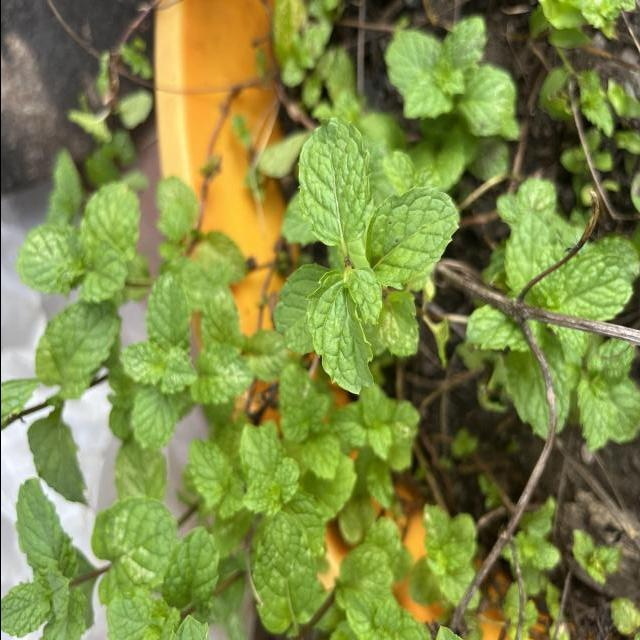Mentha spicata: (362, 184, 460, 292), (295, 116, 373, 248)
